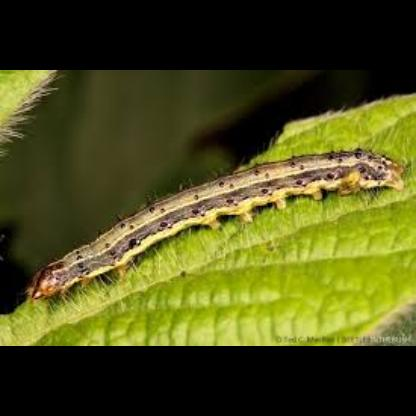oruga: (26, 140, 410, 308)
